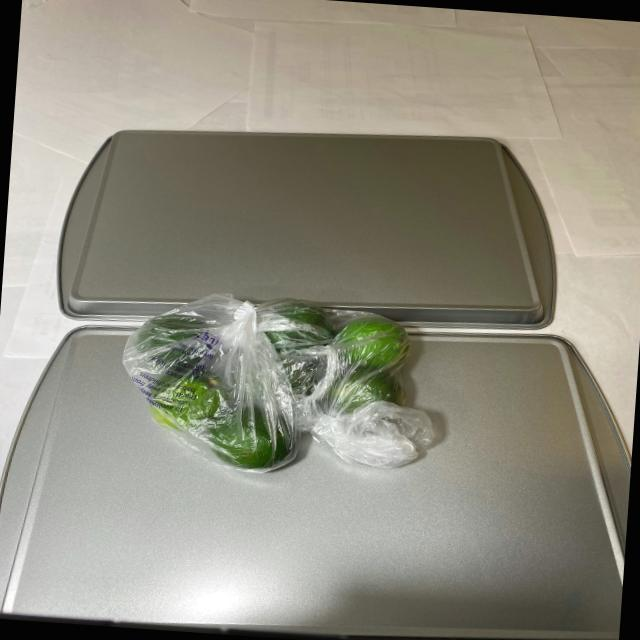lemon: (130, 291, 424, 474)
